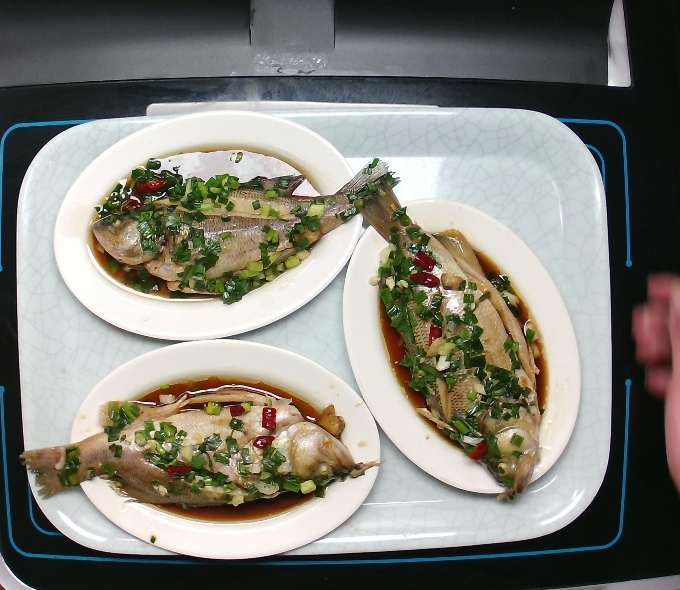wcq-LuYu: (352, 184, 551, 510), (16, 380, 385, 516), (89, 149, 404, 306)
